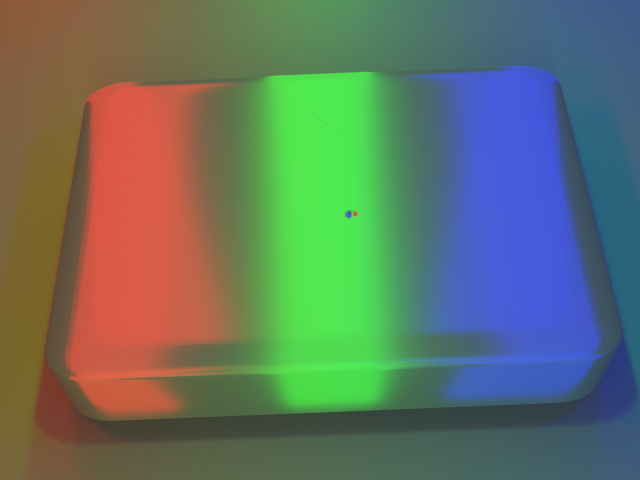dent: (334, 197, 371, 229)
scratch: (107, 96, 534, 227)
